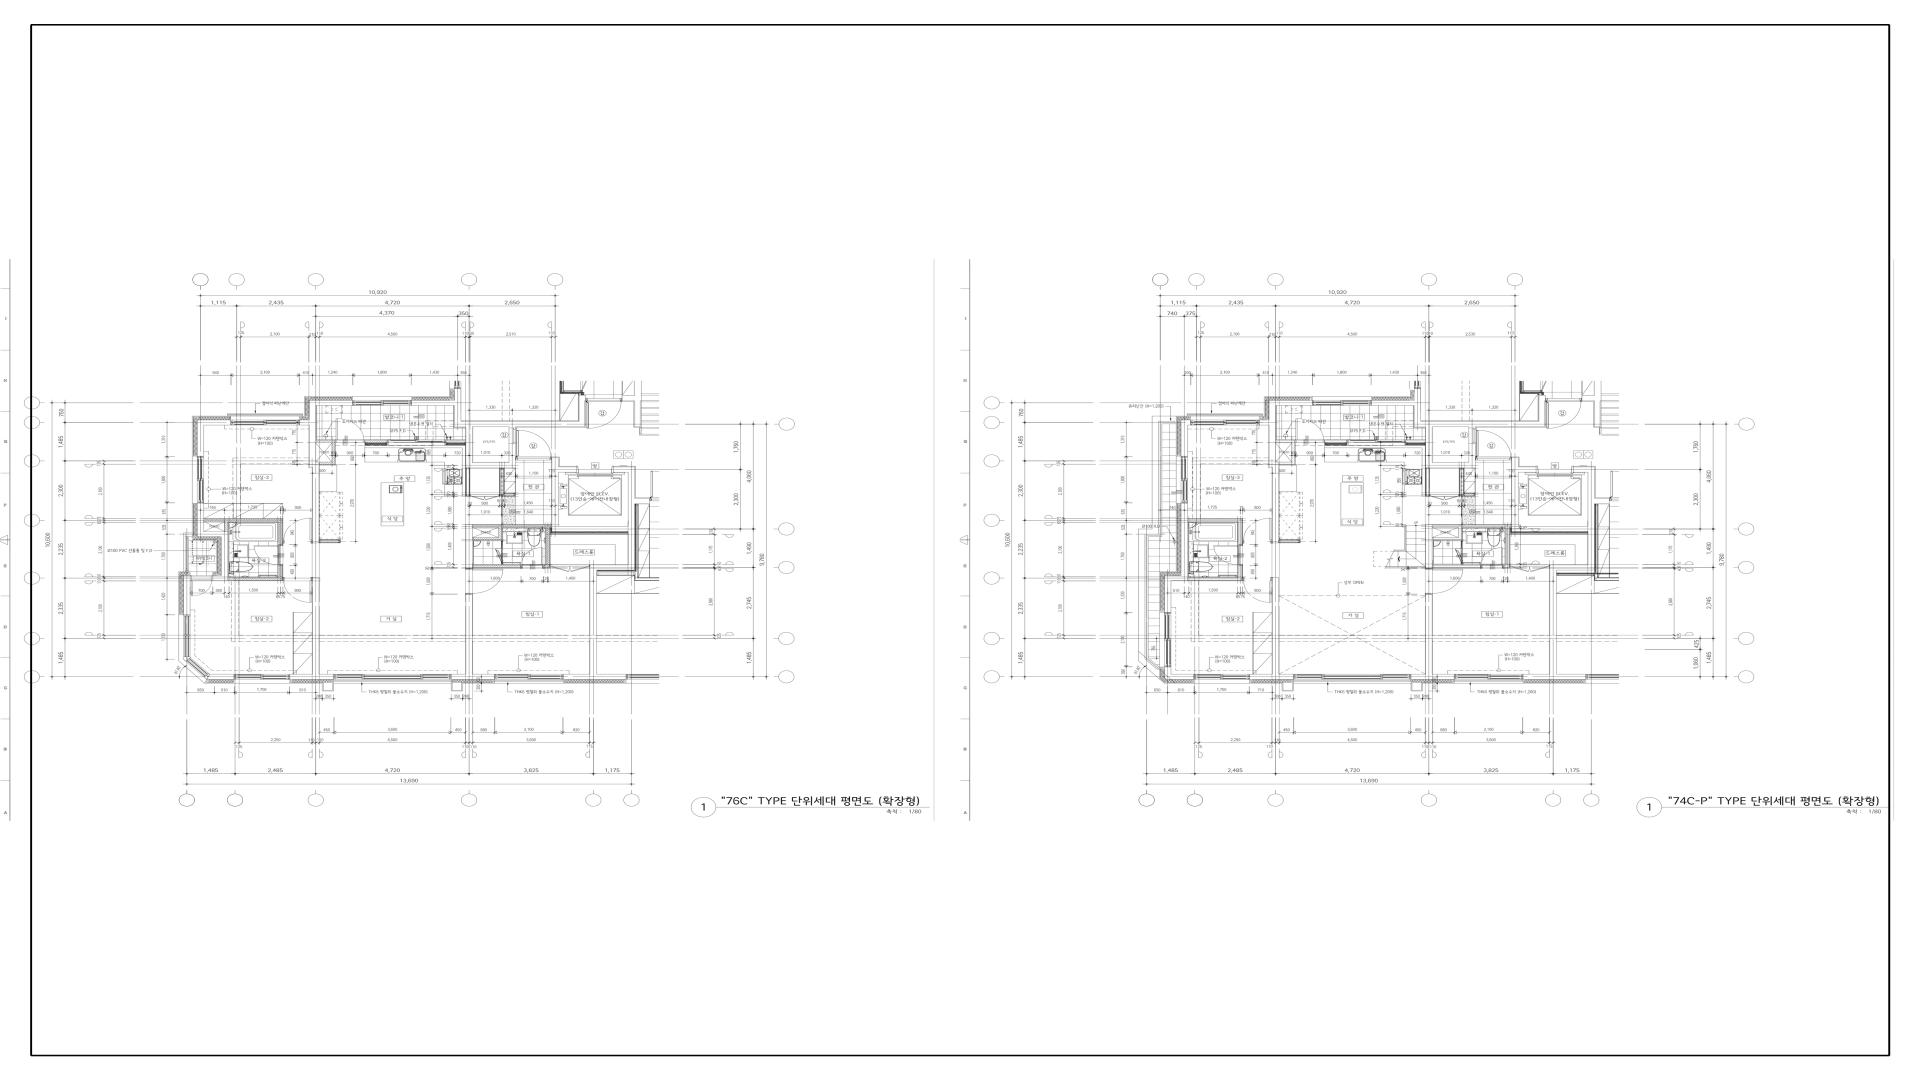door: (1476, 430, 1511, 460), (516, 430, 551, 460), (1425, 568, 1464, 595), (465, 568, 504, 595), (1295, 418, 1325, 443), (1242, 518, 1273, 543), (1242, 578, 1273, 603), (282, 518, 313, 543), (335, 418, 365, 443), (284, 578, 313, 603), (253, 545, 284, 566), (1213, 546, 1244, 564), (1481, 547, 1505, 568), (521, 547, 545, 568), (190, 575, 212, 596), (1458, 468, 1465, 525), (1510, 564, 1549, 572), (550, 564, 589, 572), (500, 468, 505, 525), (1429, 493, 1460, 501), (469, 493, 500, 501), (509, 429, 516, 443), (1469, 429, 1476, 443)
wall: (1138, 534, 1147, 657), (1549, 564, 1557, 674), (589, 564, 597, 674), (1153, 415, 1159, 529), (1588, 472, 1596, 564), (628, 472, 636, 564), (1273, 578, 1279, 674), (313, 578, 319, 674), (1420, 422, 1539, 427), (465, 595, 473, 674), (462, 422, 579, 427), (1138, 651, 1159, 679), (1511, 458, 1519, 526), (551, 458, 559, 526), (1273, 462, 1279, 543), (313, 462, 319, 543), (1425, 595, 1432, 674), (309, 405, 316, 467), (1182, 504, 1188, 575), (1269, 405, 1275, 467), (1513, 526, 1588, 531), (553, 526, 628, 531), (465, 525, 473, 568), (183, 575, 191, 616), (309, 400, 353, 406), (1269, 400, 1312, 406), (1425, 525, 1432, 568), (411, 400, 455, 406), (1371, 400, 1414, 406), (196, 504, 204, 537), (1164, 575, 1171, 613), (222, 537, 228, 575), (1538, 396, 1545, 427), (1180, 425, 1188, 456), (196, 425, 204, 456), (1249, 674, 1294, 679), (465, 427, 472, 463), (1425, 427, 1432, 463), (1411, 674, 1455, 679), (290, 674, 334, 679), (451, 674, 495, 679), (465, 463, 509, 468), (1425, 463, 1469, 468), (1414, 400, 1422, 427), (545, 527, 550, 568), (1505, 527, 1510, 568), (1188, 518, 1242, 522), (472, 525, 553, 527), (1432, 525, 1513, 527), (579, 396, 585, 427), (204, 520, 282, 522), (1557, 564, 1596, 570), (597, 564, 636, 570), (1593, 402, 1601, 427), (633, 402, 641, 427), (455, 400, 462, 427), (1523, 674, 1557, 679), (563, 674, 597, 679), (198, 419, 231, 425), (509, 443, 516, 468), (1469, 443, 1476, 468), (1325, 439, 1348, 446), (207, 674, 235, 679), (1188, 578, 1242, 580), (228, 578, 282, 580), (446, 439, 465, 446), (622, 396, 642, 402), (1432, 566, 1481, 568), (204, 531, 228, 537), (473, 566, 521, 568), (1582, 396, 1601, 402), (1573, 467, 1596, 472), (1171, 674, 1193, 679), (613, 467, 636, 472), (365, 440, 388, 446), (1159, 415, 1176, 422), (1138, 529, 1159, 534), (465, 468, 469, 496), (1425, 468, 1429, 496), (1406, 440, 1425, 446), (1519, 467, 1536, 472), (1171, 575, 1188, 580), (559, 467, 576, 472), (1238, 522, 1242, 545), (278, 522, 282, 545), (212, 575, 228, 580), (1164, 667, 1171, 679), (472, 538, 498, 541), (1432, 538, 1458, 541), (1386, 567, 1425, 568), (498, 527, 502, 541), (1275, 440, 1295, 443), (1182, 419, 1191, 425), (1259, 419, 1269, 425), (299, 419, 309, 425), (316, 440, 335, 443), (332, 443, 335, 462), (1292, 443, 1295, 462), (1238, 566, 1242, 578), (278, 566, 282, 578), (319, 462, 335, 464), (1279, 462, 1295, 464), (224, 522, 228, 531), (1404, 525, 1406, 551), (1458, 527, 1461, 541), (183, 657, 191, 661), (505, 493, 516, 496), (1279, 542, 1299, 543), (319, 542, 339, 543), (1465, 493, 1474, 496), (185, 534, 193, 537), (189, 537, 193, 541), (1394, 550, 1404, 551), (501, 541, 502, 549), (1461, 541, 1462, 549), (509, 427, 516, 429), (1469, 427, 1476, 429), (1238, 545, 1242, 546), (1238, 564, 1242, 566)
window: (1294, 674, 1411, 679), (334, 674, 451, 679), (186, 658, 210, 679), (1312, 400, 1371, 406), (352, 400, 411, 406), (1348, 439, 1406, 446), (388, 439, 446, 446), (1180, 456, 1188, 504), (196, 456, 204, 504), (1164, 612, 1171, 667), (1191, 419, 1259, 425), (1455, 674, 1523, 679), (231, 419, 299, 425), (495, 674, 563, 679), (1193, 674, 1250, 679), (235, 674, 290, 679), (183, 616, 190, 657), (185, 537, 189, 571)
